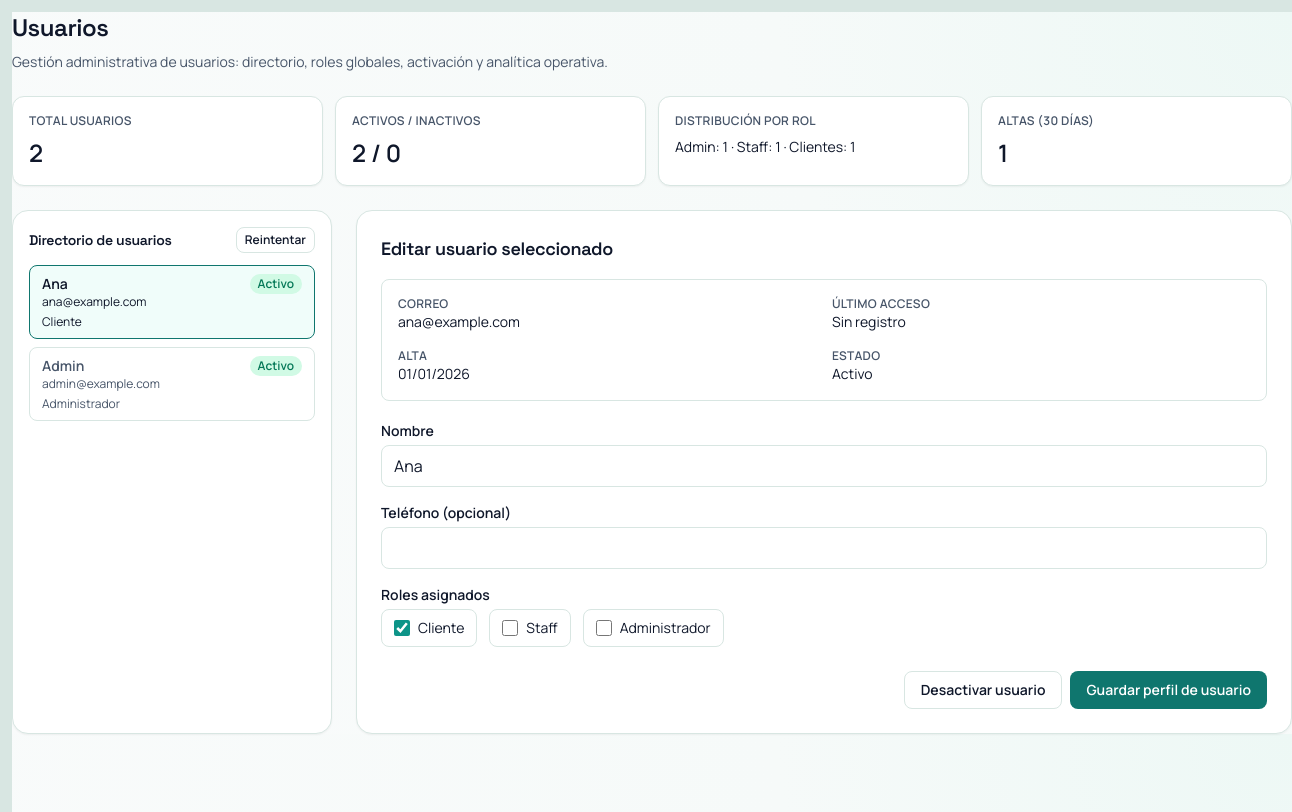
it: AdminUsersPage › assigns a role with confirmation
Expected: the text "Roles asignados" is shown, [381, 585, 490, 604]
# customer checkbox (index 0) should be checked, staff (index 1) unchecked
Click the checkbox labelled "Staff" at (510, 628), box [502, 620, 518, 636]
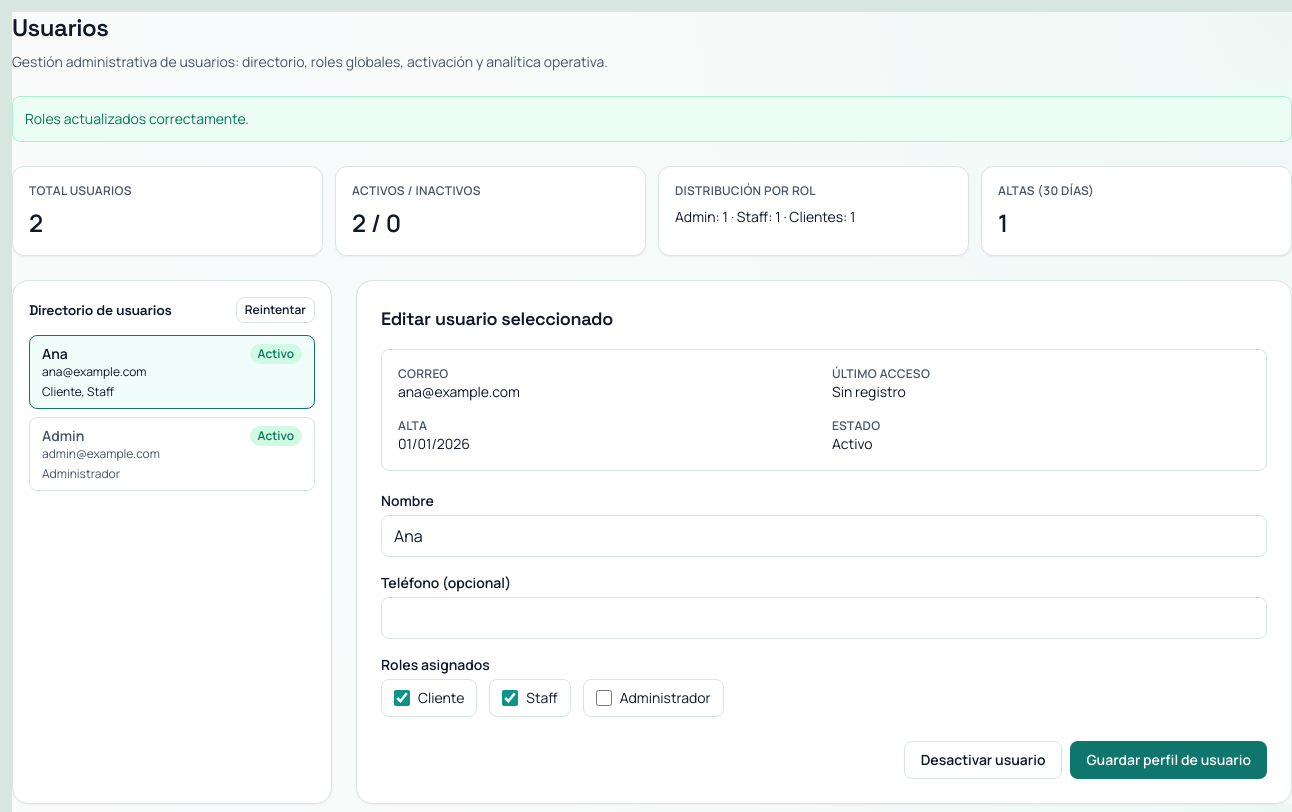
Result: the text "Roles actualizados correctamente." is shown at [12, 96, 1291, 142]
